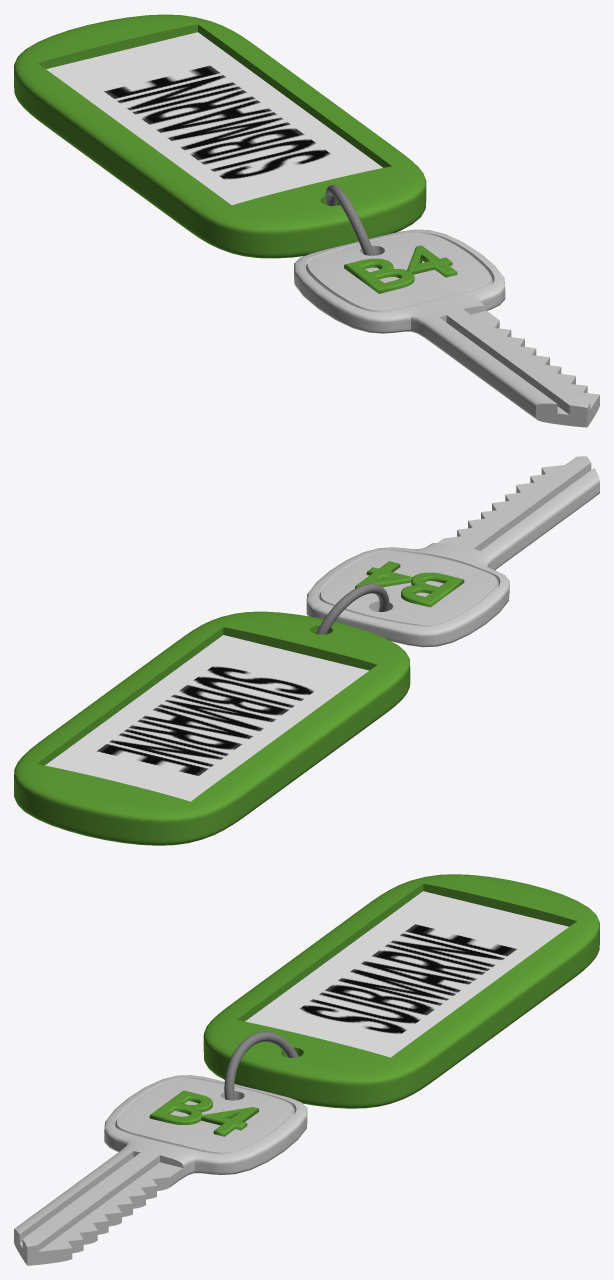
The model's file is 잠수함열쇠.fbx.
3 renders of one model, top to bottom at view 1: azimuth 30°, elevation 25°; view 2: azimuth 150°, elevation 25°; view 3: azimuth 330°, elevation 25°, orthographic. The views are drawn at different scales.
Parts seen in each view (by area): view 1: nametag, Plane, key, Text, ring; view 2: nametag, Plane, key, Text, ring; view 3: nametag, Plane, key, Text, ring.
Part boxes in pixels (bbox=[...]): nametag: bbox=[14, 14, 426, 258]; Plane: bbox=[46, 32, 382, 205]; key: bbox=[294, 229, 599, 427]; Text: bbox=[344, 245, 457, 293]; ring: bbox=[325, 185, 374, 255]; nametag: bbox=[14, 611, 410, 845]; Plane: bbox=[45, 635, 368, 801]; key: bbox=[306, 456, 599, 647]; Text: bbox=[355, 561, 464, 607]; ring: bbox=[316, 583, 389, 634]; nametag: bbox=[203, 874, 599, 1108]; Plane: bbox=[245, 891, 568, 1057]; key: bbox=[14, 1075, 307, 1265]; Text: bbox=[149, 1090, 258, 1136]; ring: bbox=[224, 1031, 298, 1100].
Size of the model in its own units: 91.95 by 42.16 by 379.
